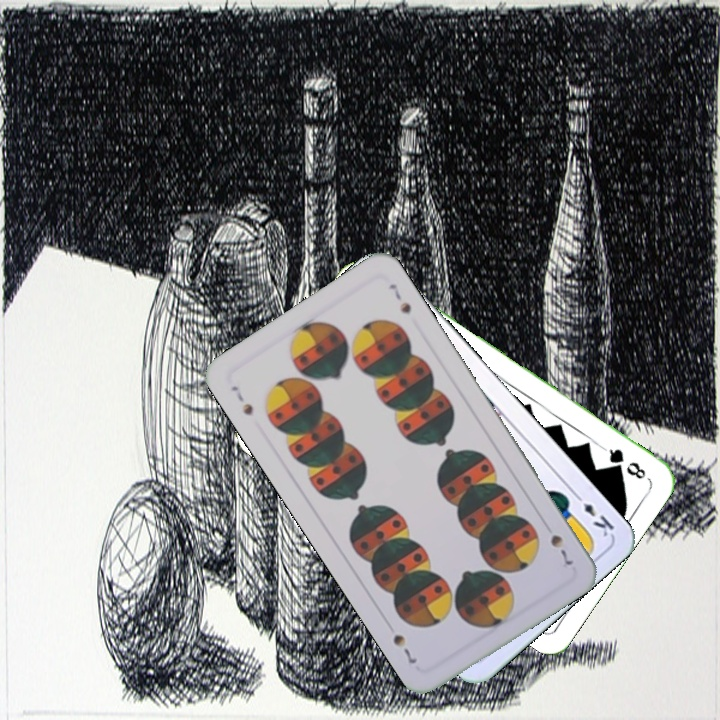EK: (569, 488, 617, 540)
G8: (599, 443, 649, 482)
S7: (546, 530, 576, 572), (226, 381, 256, 418)
